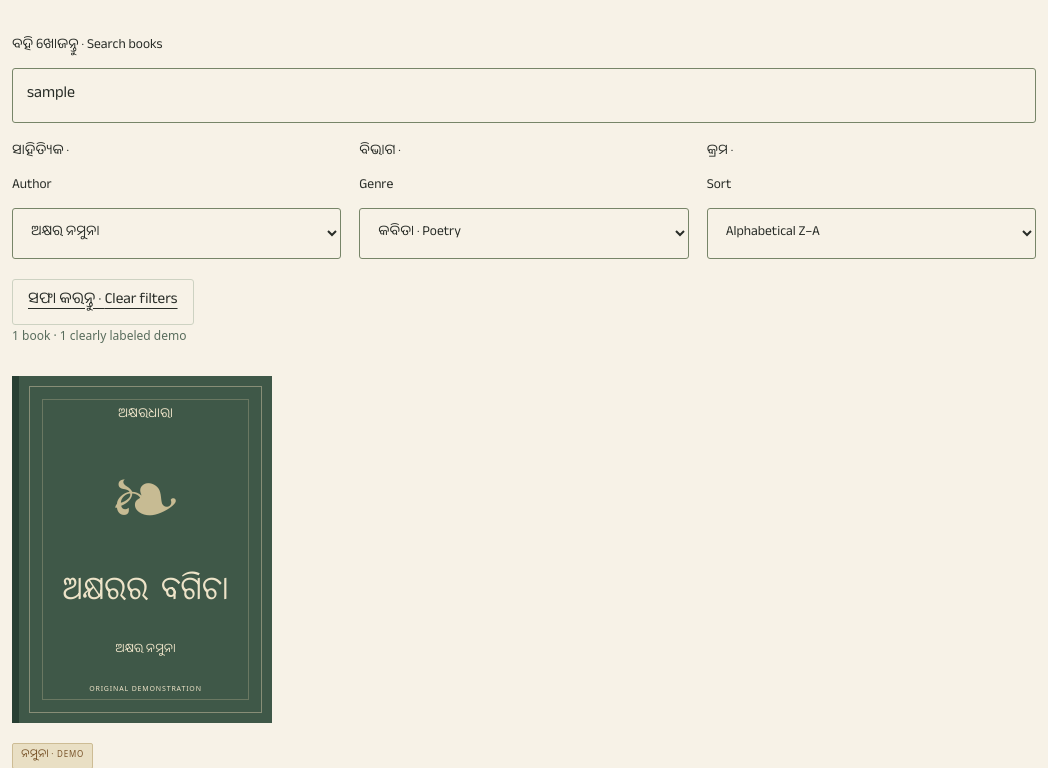
it: shareable static catalog filters › hydrates complete URL filters, keeps them on remount, and clears sort with all filters
The width and height of the screenshot is (1048, 768).
Expected: the dropdown labelled "ସାହିତ୍ୟିକ · Author" shows "ଅକ୍ଷର ନମୁନା", 12,208 -> 341,259
Expected: the dropdown labelled "ବିଭାଗ · Genre" shows "କବିତା · Poetry", 359,208 -> 689,259
Click the button "ସଫା କରନ୍ତୁ · Clear filters" at (103, 302), box 12,279 -> 194,325
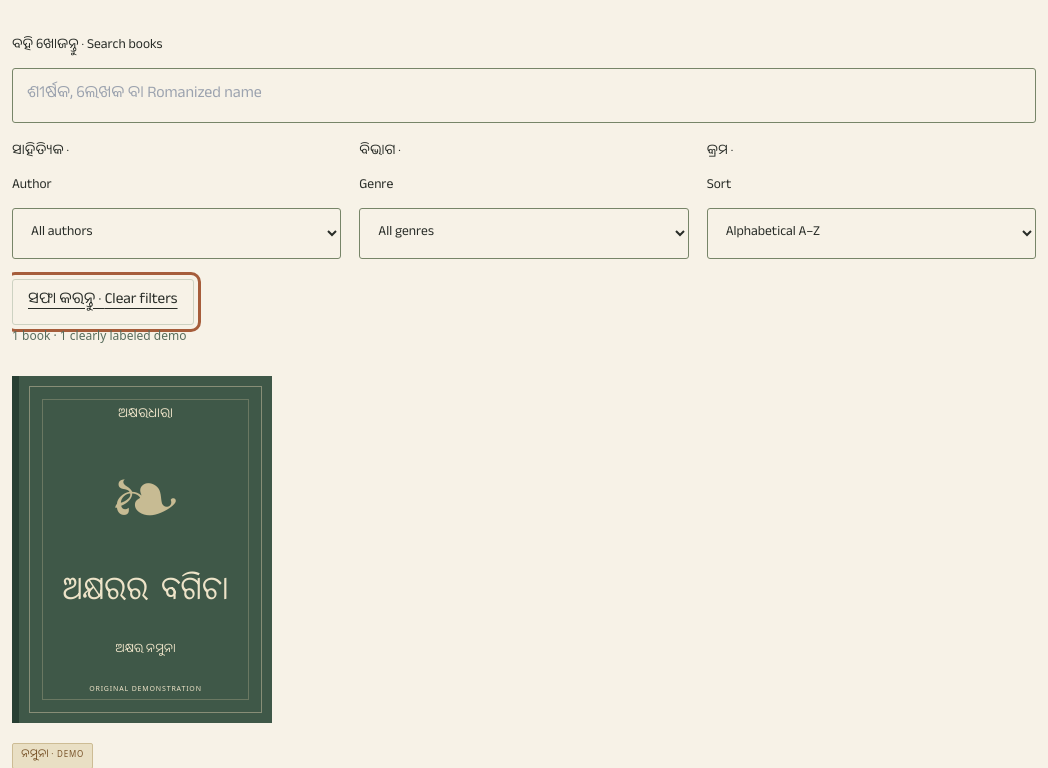
Expected: the dropdown labelled "କ୍ରମ · Sort" shows "Alphabetical A–Z", 707,208 -> 1036,259
